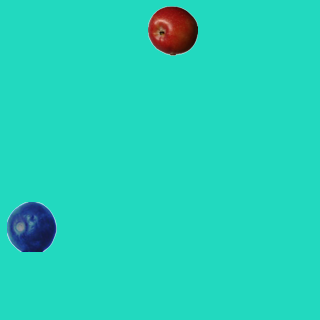Apple Braeburn: (147, 5, 197, 55)
Huckleberry: (6, 201, 56, 251)
